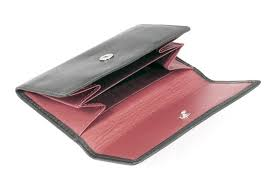monedero: (15, 24, 261, 165)
